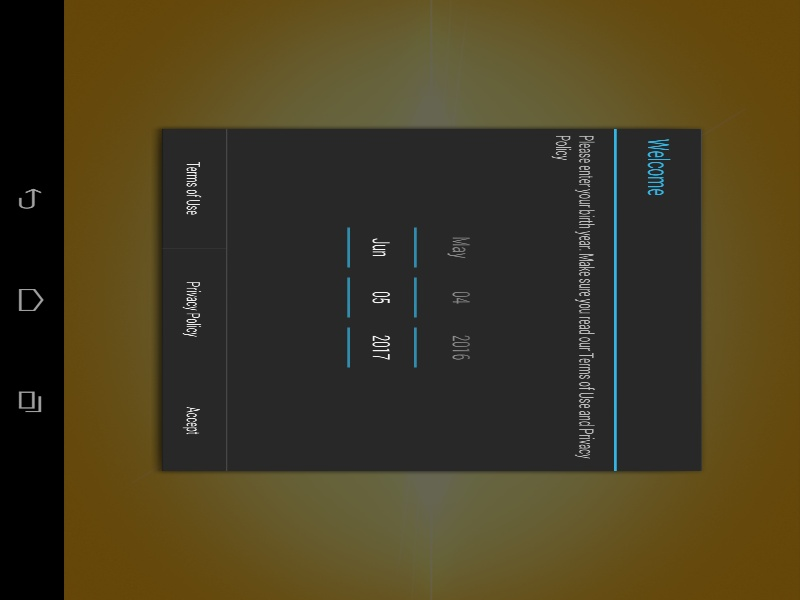Button: (530, 269, 788, 299), (274, 269, 528, 299), (698, 139, 784, 180), (485, 139, 570, 180), (592, 139, 677, 180)
Input: (698, 180, 784, 210), (485, 180, 570, 210), (592, 180, 677, 210)
